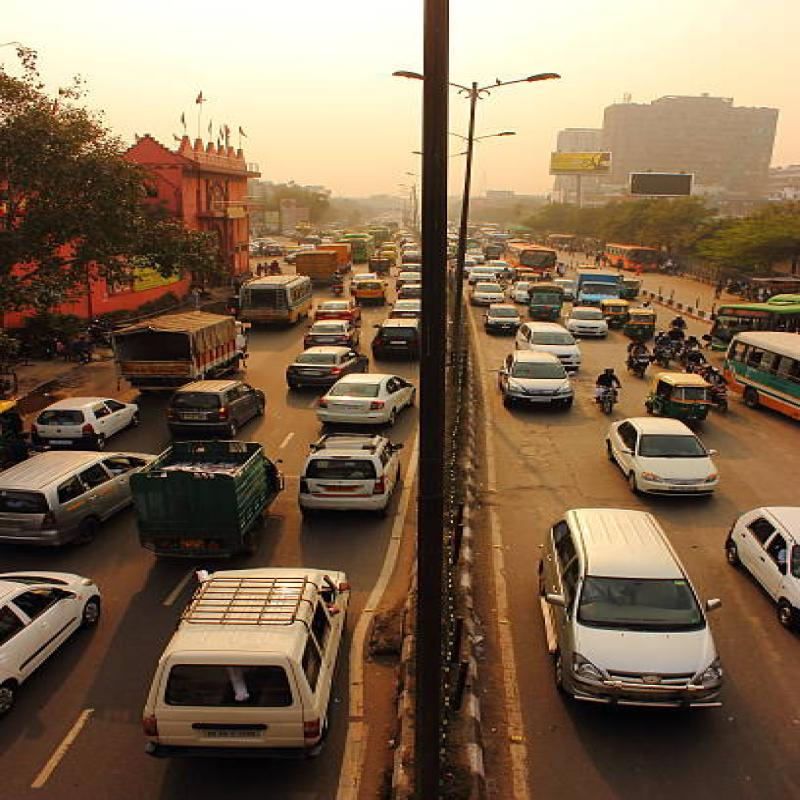car: (494, 521, 750, 720), (151, 556, 329, 782), (289, 447, 438, 536), (599, 410, 731, 501), (334, 362, 441, 432), (488, 341, 586, 409)
